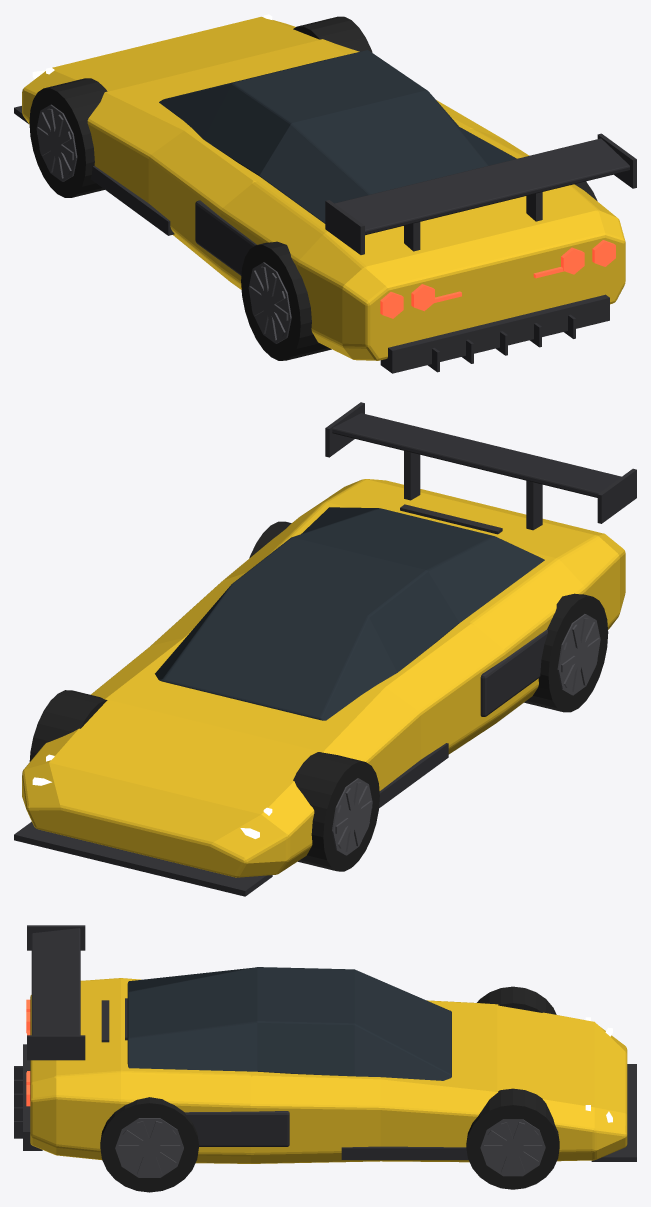
The model's file is supercar.glb.
The picture shows the model from 3 angles, top to bottom: view 1: azimuth 30°, elevation 25°; view 2: azimuth 150°, elevation 25°; view 3: azimuth 270°, elevation 25°; orthographic projection. The views are drawn at different scales.
Parts seen in each view (by area): view 1: body.002, canopy, wing, diffuser.001, tyre_FR.001, tyre_RR.001, intake, tyre_FL.001, sideblade, wingend, rim_RR.001, rim_FR.001 (+4 smaller); view 2: body.002, canopy, wing, tyre_FR.001, splitter, tyre_RR.001, intake, tyre_FL.001, wingend, sideblade, rim_RR.001, rim_FR.001 (+4 smaller); view 3: body.002, canopy, wing, tyre_FL.001, tyre_RL.001, intake.001, rim_RL.001, sideblade.001, rim_FL.001, wingend.001, tyre_FR.001, splitter (+4 smaller).
Boxes of the visible parts, bbox=[...] form: body.002: bbox=[22, 16, 625, 360]; canopy: bbox=[159, 50, 516, 223]; wing: bbox=[334, 138, 629, 235]; diffuser.001: bbox=[380, 294, 609, 373]; tyre_FR.001: bbox=[29, 78, 107, 197]; tyre_RR.001: bbox=[241, 241, 331, 360]; intake: bbox=[195, 200, 256, 275]; tyre_FL.001: bbox=[293, 16, 372, 52]; sideblade: bbox=[90, 166, 174, 235]; wingend: bbox=[325, 200, 364, 254]; rim_RR.001: bbox=[248, 262, 291, 343]; rim_FR.001: bbox=[36, 104, 77, 181]; body.002: bbox=[22, 479, 625, 877]; canopy: bbox=[155, 507, 544, 720]; wing: bbox=[332, 413, 621, 497]; tyre_FR.001: bbox=[293, 752, 379, 871]; splitter: bbox=[14, 821, 272, 896]; tyre_RR.001: bbox=[524, 593, 608, 712]; intake: bbox=[480, 629, 547, 716]; tyre_FL.001: bbox=[29, 690, 107, 761]; wingend: bbox=[597, 468, 636, 523]; sideblade: bbox=[379, 743, 448, 808]; rim_RR.001: bbox=[557, 614, 600, 695]; rim_FR.001: bbox=[332, 778, 372, 855]; body.002: bbox=[30, 978, 627, 1163]; canopy: bbox=[127, 967, 451, 1080]; wing: bbox=[31, 928, 80, 1035]; tyre_FL.001: bbox=[466, 1088, 559, 1189]; tyre_RL.001: bbox=[100, 1097, 198, 1192]; intake.001: bbox=[185, 1111, 289, 1146]; rim_RL.001: bbox=[115, 1118, 183, 1177]; sideblade.001: bbox=[341, 1146, 468, 1159]; rim_FL.001: bbox=[480, 1119, 545, 1176]; wingend.001: bbox=[27, 1035, 85, 1060]; tyre_FR.001: bbox=[477, 986, 556, 1014]; splitter: bbox=[591, 1064, 636, 1161].
Bounding box in the file's own units: 2.3 × 1.27 × 4.8.
